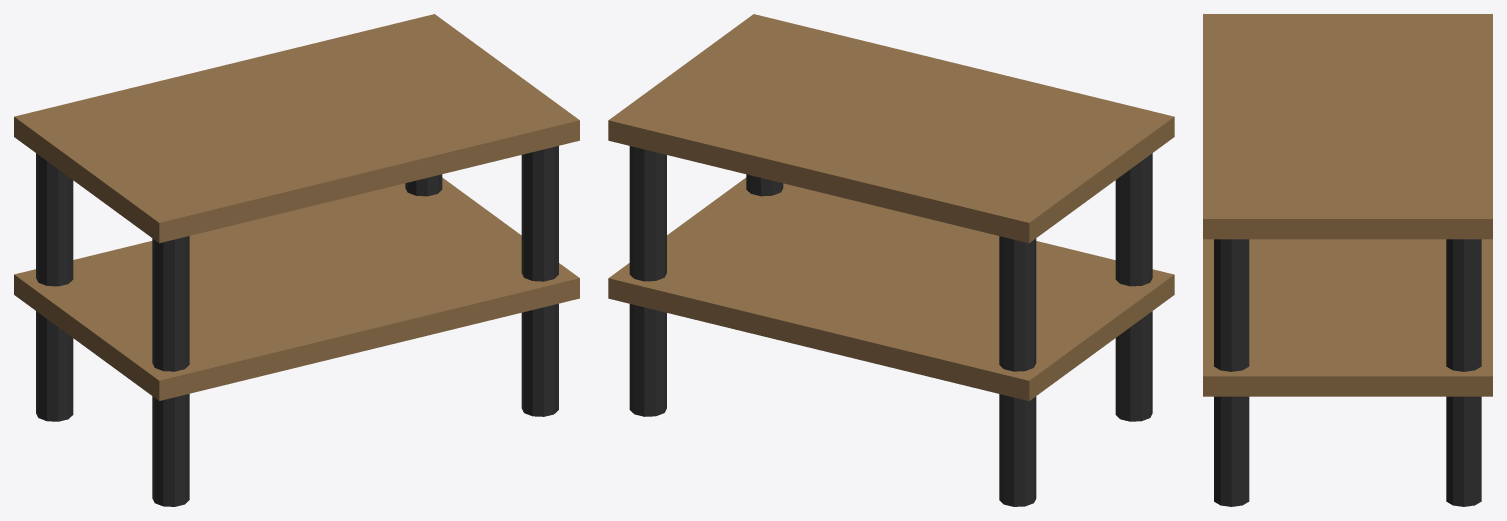
File: TVtable.fbx
The picture shows the model from 3 angles, left to right: view 1: azimuth 30°, elevation 25°; view 2: azimuth 150°, elevation 25°; view 3: azimuth 270°, elevation 25°; orthographic projection.
Parts seen in each view (by area): view 1: TV_table; view 2: TV_table; view 3: TV_table.
Boxes of the visible parts, x1,y1,x2,y2 form: TV_table: (14,14,579,506); TV_table: (608,14,1174,506); TV_table: (1203,14,1492,506).
Bounding box in the file's own units: 5.59 × 3.72 × 3.34.
